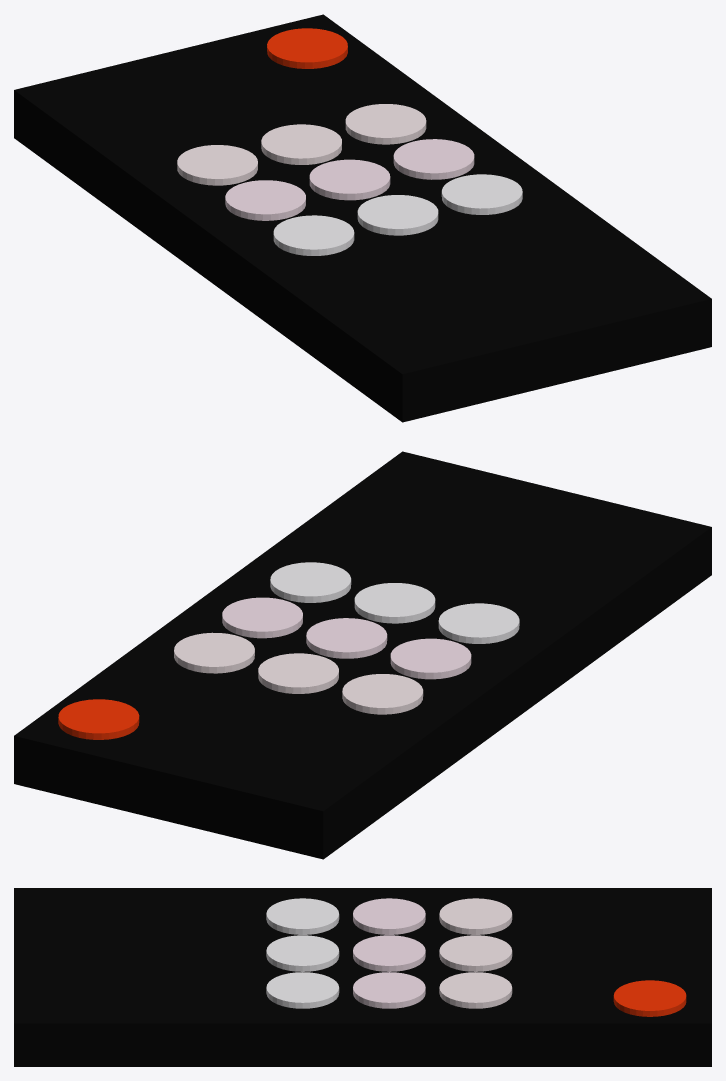
The model's file is Remote.fbx.
3 renders of one model, top to bottom at view 1: azimuth 30°, elevation 25°; view 2: azimuth 150°, elevation 25°; view 3: azimuth 270°, elevation 25°, orthographic. The views are drawn at different scales.
Parts seen in each view (by area): view 1: REmote box, number button.001, number button.002, number button, power button; view 2: REmote box, number button.001, number button.002, number button, power button; view 3: REmote box, number button, number button.002, number button.001, power button.
Part boxes in pixels (x1,y1,x2,y2): REmote box: (14, 14, 711, 422); number button.001: (225, 139, 474, 220); number button.002: (273, 174, 522, 255); number button: (177, 104, 426, 185); power button: (267, 28, 347, 68); REmote box: (14, 451, 711, 859); number button.001: (222, 597, 471, 679); number button.002: (270, 562, 519, 643); number button: (174, 632, 423, 714); power button: (58, 699, 139, 739); REmote box: (14, 888, 711, 1066); number button: (439, 898, 512, 1008); number button.002: (266, 898, 339, 1008); number button.001: (353, 898, 425, 1008); power button: (613, 980, 686, 1016).
Size of the model in its own units: 27.81 by 4.7 by 60.47.
